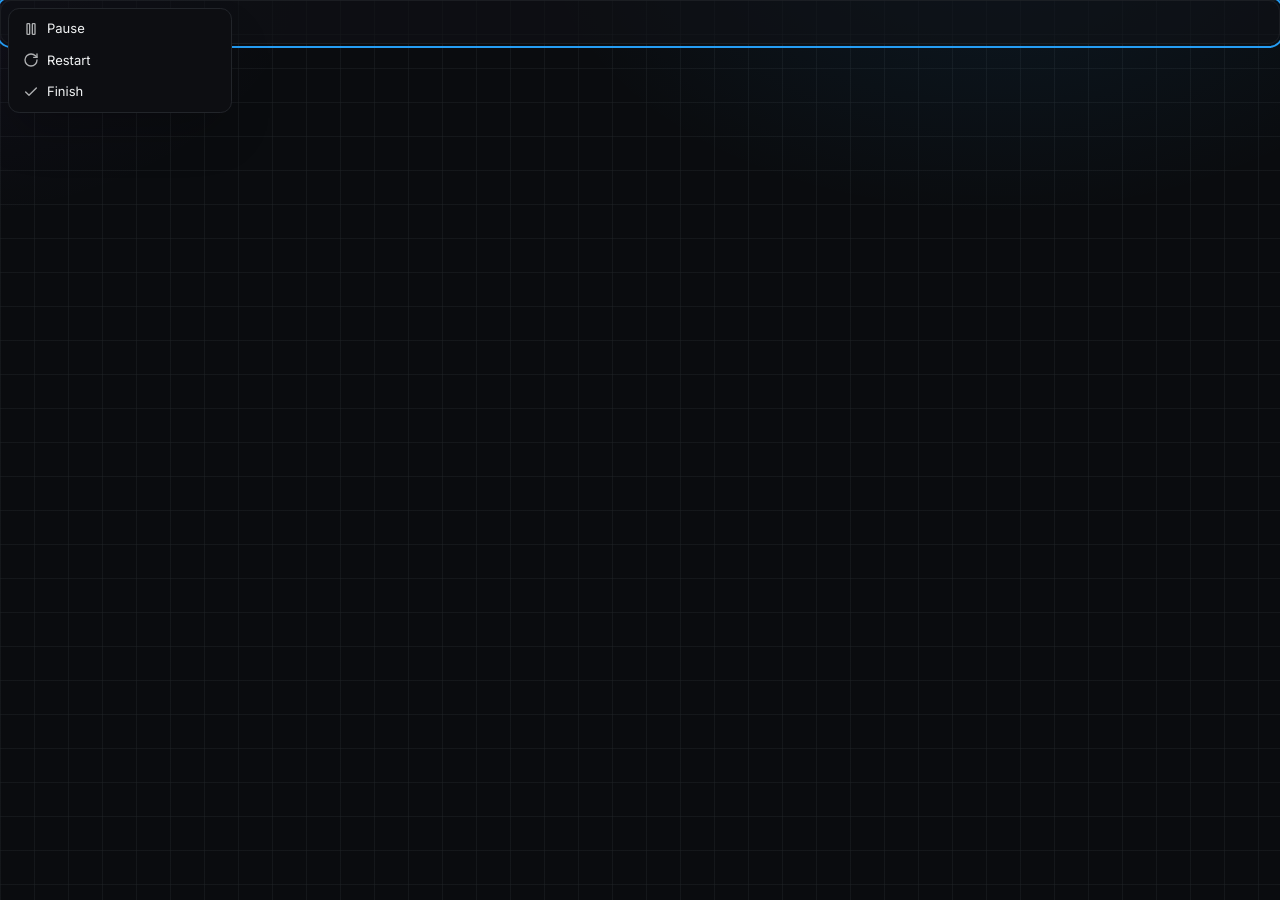
Test case: CardTile — right-click › closes after choosing
Click the menu item "Pause" at (120, 29), box [13,13,227,44]
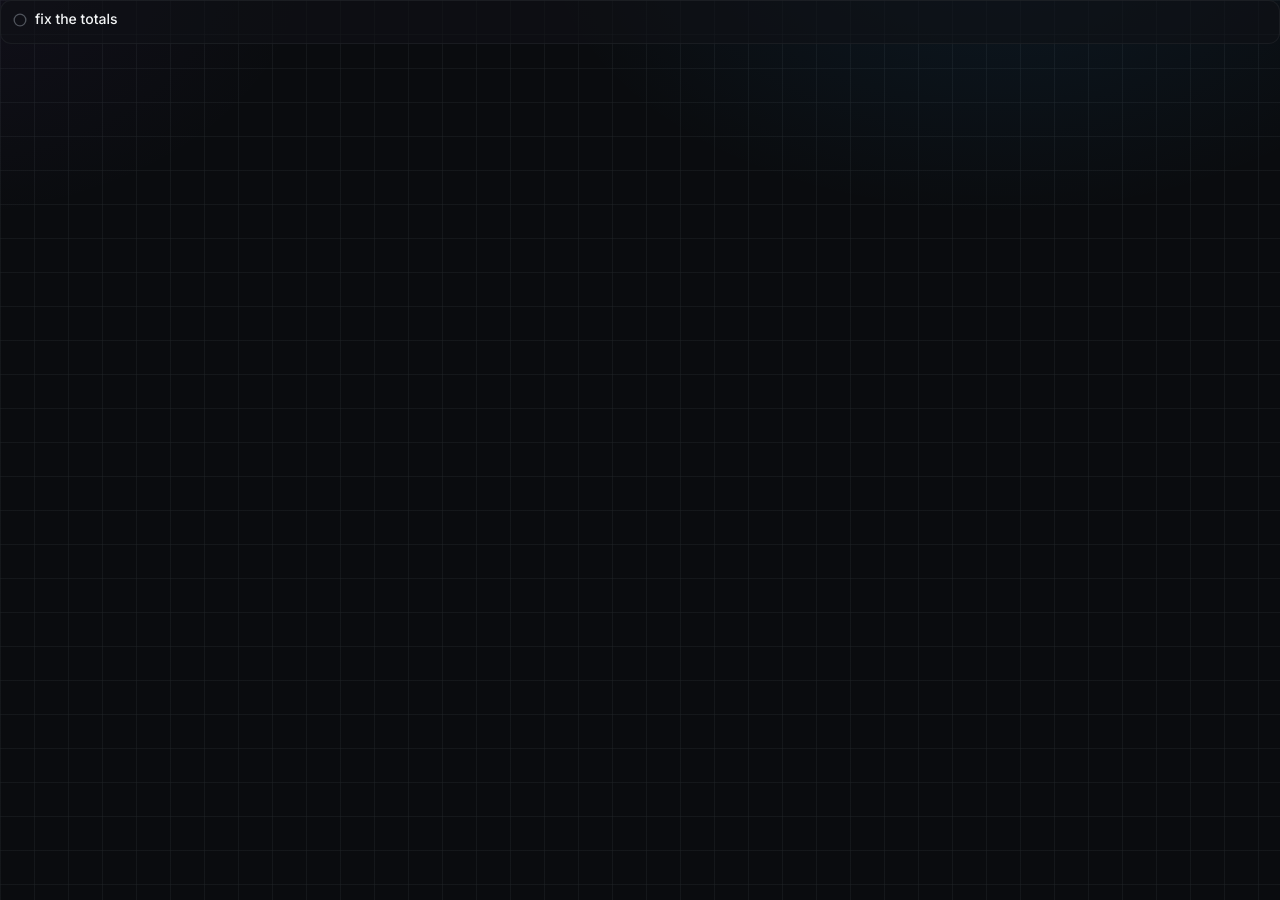
Expected: the menu is gone
